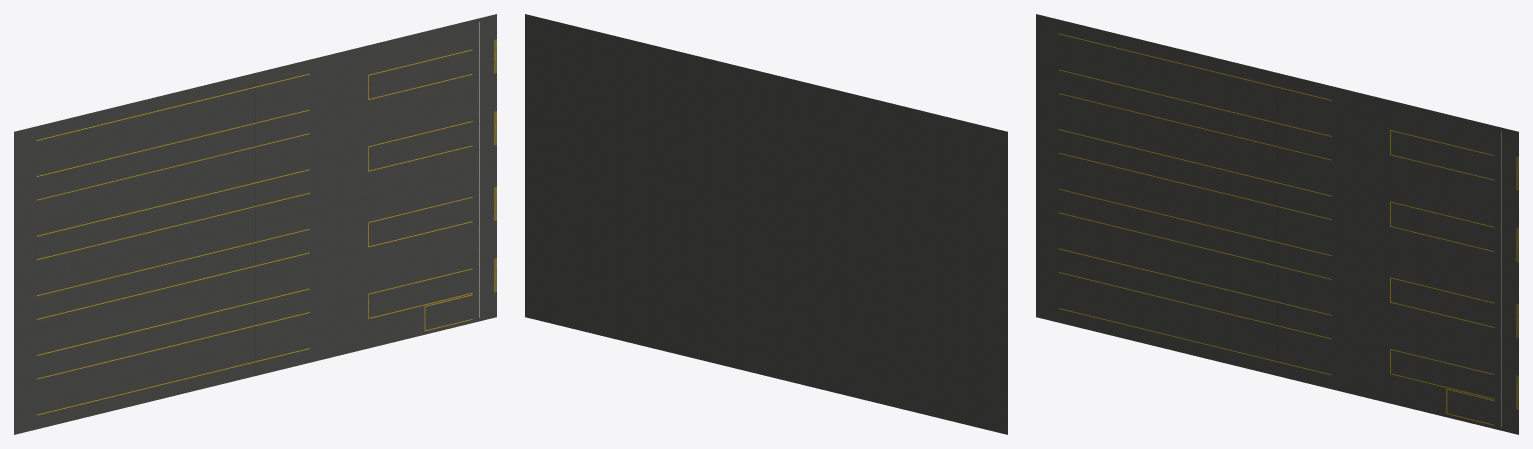
File: floor_lightmapped.gltf
3 views of the same model, side by side, from view 1: azimuth 30°, elevation 25°; view 2: azimuth 150°, elevation 25°; view 3: azimuth 330°, elevation 25° (orthographic).
Visible parts, largest first — view 1: floor; view 2: floor; view 3: floor.
Boxes of the visible parts, box(x1,y1,x2,y2) form: floor: box(14, 14, 496, 434); floor: box(525, 14, 1007, 434); floor: box(1036, 14, 1518, 434).
Size of the model in its own units: 60 by 36 by 0.003.
5 materials, 4 textured.
